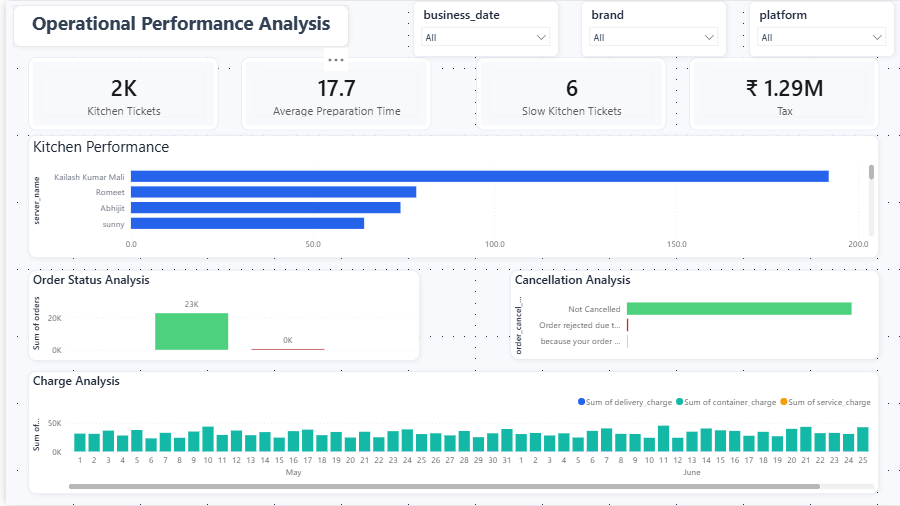

The dashboard page shown, as its layout file describes it:
{"tool":"powerbi","page":{"name":"Operational Performance Analysis","canvas":[1280,720],"ordinal":2},"visuals":[{"type":"cardVisual","fields":{"Data":["Measure.Kitchen Tickets"]},"box":[32,80.6,272,105],"z":0},{"type":"cardVisual","fields":{"Data":["Measure.Tax"]},"box":[976,80,272,105],"z":1000},{"type":"cardVisual","fields":{"Data":["Measure.Slow Kitchen Tickets"]},"box":[672,80,272,105],"z":3000},{"type":"cardVisual","fields":{"Data":["Measure.Average Preparation Time"]},"box":[336,80.6,272,105],"z":3000},{"type":"clusteredBarChart","title":"Kitchen Performance","fields":{"Y":["Sum(vw_kitchen_performance.average_preparation_time)"],"Category":["vw_kitchen_performance.server_name"]},"box":[32,192,1216,176],"z":4000},{"type":"clusteredColumnChart","title":"Order Status Analysis","fields":{"Category":["vw_order_status_analysis.status"],"Y":["Sum(vw_order_status_analysis.orders)"]},"box":[32,384,560,130],"z":5000},{"type":"columnChart","title":"Charge Analysis","fields":{"Category":["vw_charge_analysis.business_date.Variation.Date Hierarchy.Month","vw_charge_analysis.business_date.Variation.Date Hierarchy.Day"],"Y":["Sum(vw_charge_analysis.delivery_charge)","Sum(vw_charge_analysis.container_charge)","Sum(vw_charge_analysis.service_charge)"]},"box":[32,528,1216,176],"z":6000},{"type":"slicer","fields":{"Values":["dim_date.business_date"]},"box":[582,0,208,80],"z":8000},{"type":"slicer","fields":{"Values":["dim_brand.brand"]},"box":[822,0,208,80],"z":9000},{"type":"slicer","fields":{"Values":["dim_platform.platform"]},"box":[1062,0,208,80],"z":10000},{"type":"clusteredBarChart","title":"Cancellation Analysis","fields":{"Category":["vw_order_status_analysis.order_cancel_reason"],"Y":["Sum(vw_order_status_analysis.orders)"]},"box":[720,384,528,128],"z":11000},{"type":"textbox","box":[10,6,480,60],"z":11001}]}

Visuals, with their boxes in screenshot pixels (x1, y1, x2, y2), scaled from the page's 1280x720 canvas onto the 900x506 screenshot:
cardVisual - Measure.Kitchen Tickets: select_region(22, 57, 214, 130)
cardVisual - Measure.Tax: select_region(686, 56, 878, 130)
cardVisual - Measure.Slow Kitchen Tickets: select_region(472, 56, 664, 130)
cardVisual - Measure.Average Preparation Time: select_region(236, 57, 428, 130)
"Kitchen Performance" clusteredBarChart: select_region(22, 135, 878, 259)
"Order Status Analysis" clusteredColumnChart: select_region(22, 270, 416, 361)
"Charge Analysis" columnChart: select_region(22, 371, 878, 495)
slicer - dim_date.business_date: select_region(409, 0, 555, 56)
slicer - dim_brand.brand: select_region(578, 0, 724, 56)
slicer - dim_platform.platform: select_region(747, 0, 893, 56)
"Cancellation Analysis" clusteredBarChart: select_region(506, 270, 878, 360)
textbox: select_region(7, 4, 345, 46)
